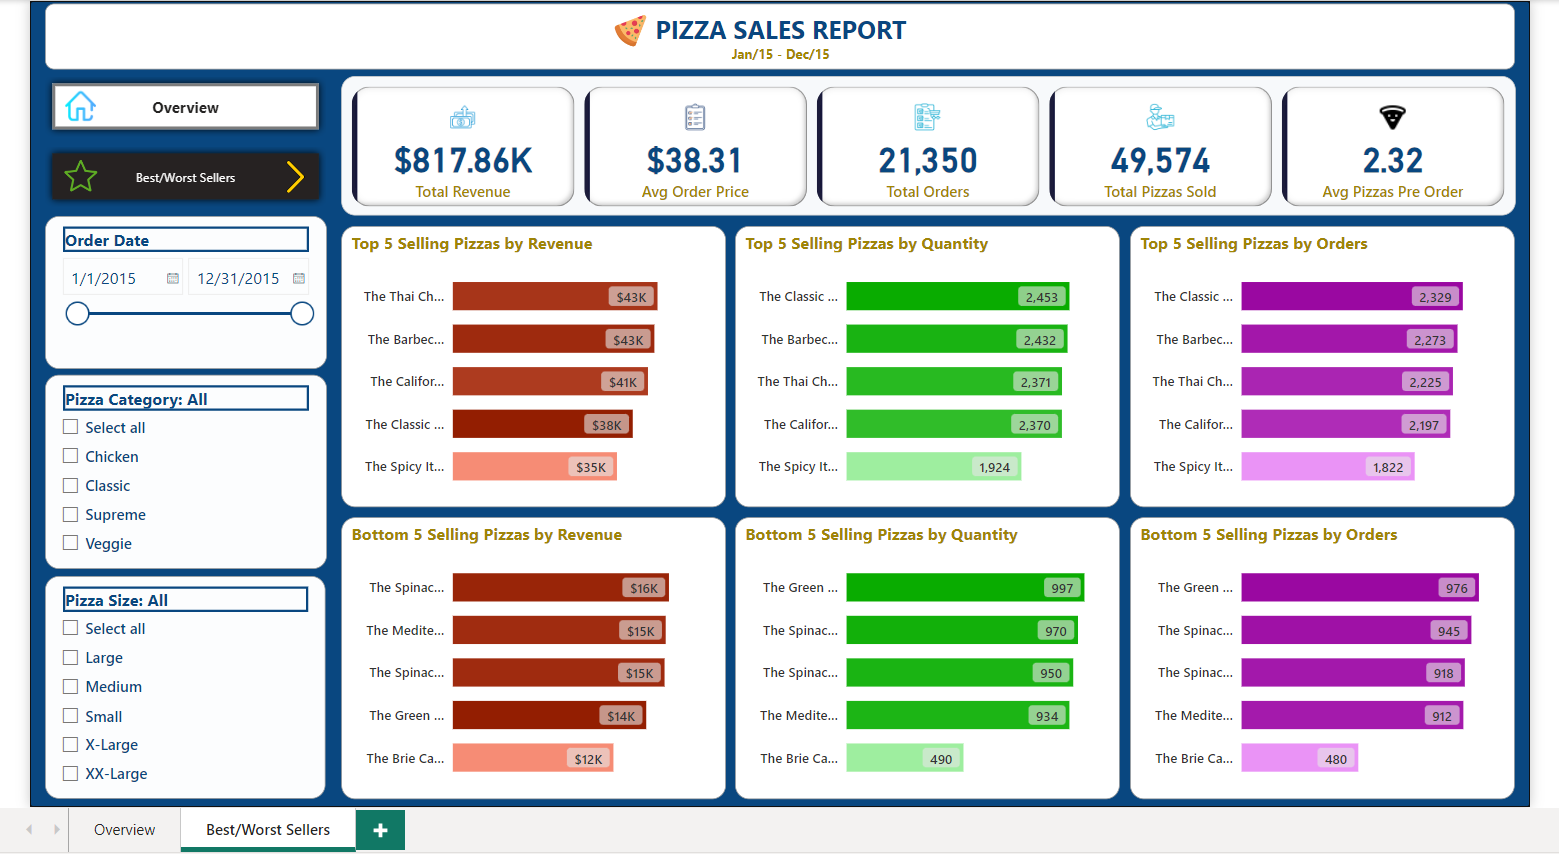

This screenshot's page, from the dashboard's own definition file:
{"tool":"powerbi","page":{"name":"Best/Worst Sellers","canvas":[1600,860],"ordinal":1},"visuals":[{"type":"cardVisual","fields":{"Data":["Pizza Sales.Total Revenue","Pizza Sales.Avg Order Price","Pizza Sales.Total Orders","Pizza Sales.Total Pizzas Sold","Pizza Sales.Avg Pizzas Pre Order"]},"box":[331.4,80.3,1252.8,148.9],"z":0},{"type":"textbox","box":[16.1,3,1568.1,70],"z":1000},{"type":"slicer","fields":{"Values":["Pizza Sales.Pizza Category"]},"box":[16.1,398.6,300.8,207.3],"z":2000},{"type":"slicer","fields":{"Values":["Pizza Sales.Pizza Size"]},"box":[16.1,613.2,299.3,238],"z":3000},{"type":"slicer","fields":{"Values":["Pizza Sales.Order Date"]},"box":[16.1,229.2,300.8,163.5],"z":4000},{"type":"pageNavigator","box":[16.1,154.8,300.8,65.7],"z":5000},{"type":"pageNavigator","box":[16.1,80.3,300.8,65.7],"z":6000},{"type":"image","box":[257,165,51.1,43.8],"z":7000},{"type":"image","box":[27.7,90.5,51.1,42.3],"z":8000},{"type":"image","box":[24.8,163.5,56.9,45.3],"z":9000},{"type":"clusteredBarChart","title":"Top 5 Selling Pizzas by Revenue","fields":{"Category":["Pizza Sales.Pizza Name"],"Y":["Pizza Sales.Total Revenue"]},"box":[331.4,239.6,410.3,300],"z":10000},{"type":"clusteredBarChart","title":"Top 5 Selling Pizzas by Quantity","fields":{"Category":["Pizza Sales.Pizza Name"],"Y":["Pizza Sales.Total Pizzas Sold"]},"box":[752,239.6,410.3,300],"z":11000},{"type":"clusteredBarChart","title":"Top 5 Selling Pizzas by Orders","fields":{"Category":["Pizza Sales.Pizza Name"],"Y":["Pizza Sales.Total Orders"]},"box":[1173.9,239.6,410.3,300],"z":12000},{"type":"clusteredBarChart","title":"Bottom 5 Selling Pizzas by Revenue","fields":{"Category":["Pizza Sales.Pizza Name"],"Y":["Pizza Sales.Total Revenue"]},"box":[331.4,550.5,410.3,300.8],"z":13000},{"type":"clusteredBarChart","title":"Bottom 5 Selling Pizzas by Quantity","fields":{"Category":["Pizza Sales.Pizza Name"],"Y":["Pizza Sales.Total Pizzas Sold"]},"box":[752,550.5,410.3,300.8],"z":14000},{"type":"clusteredBarChart","title":"Bottom 5 Selling Pizzas by Orders","fields":{"Category":["Pizza Sales.Pizza Name"],"Y":["Pizza Sales.Total Orders"]},"box":[1173.9,550.5,410.3,300.8],"z":15000},{"type":"image","box":[613.2,8.8,54,45.3],"z":16000}]}

Visuals, with their boxes on the page's 1600x860 design canvas (x1, y1, x2, y2). These are canvas units, not pixel positions in the 1559x854 screenshot, which may show the page scaled, cropped or inside an application window:
cardVisual - Pizza Sales.Total Revenue x Pizza Sales.Avg Order Price: (331, 80, 1584, 229)
textbox: (16, 3, 1584, 73)
slicer - Pizza Sales.Pizza Category: (16, 399, 317, 606)
slicer - Pizza Sales.Pizza Size: (16, 613, 315, 851)
slicer - Pizza Sales.Order Date: (16, 229, 317, 393)
pageNavigator: (16, 155, 317, 220)
pageNavigator: (16, 80, 317, 146)
image: (257, 165, 308, 209)
image: (28, 90, 79, 133)
image: (25, 164, 82, 209)
"Top 5 Selling Pizzas by Revenue" clusteredBarChart: (331, 240, 742, 540)
"Top 5 Selling Pizzas by Quantity" clusteredBarChart: (752, 240, 1162, 540)
"Top 5 Selling Pizzas by Orders" clusteredBarChart: (1174, 240, 1584, 540)
"Bottom 5 Selling Pizzas by Revenue" clusteredBarChart: (331, 550, 742, 851)
"Bottom 5 Selling Pizzas by Quantity" clusteredBarChart: (752, 550, 1162, 851)
"Bottom 5 Selling Pizzas by Orders" clusteredBarChart: (1174, 550, 1584, 851)
image: (613, 9, 667, 54)
